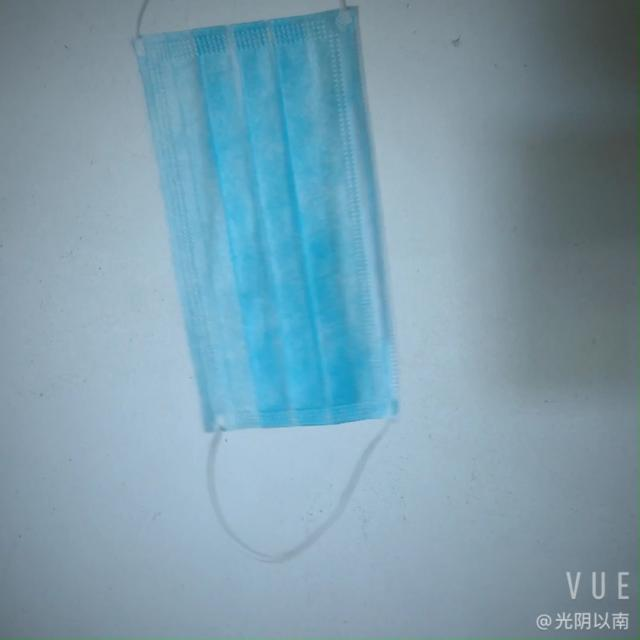non-organic waste: (115, 4, 397, 443)
